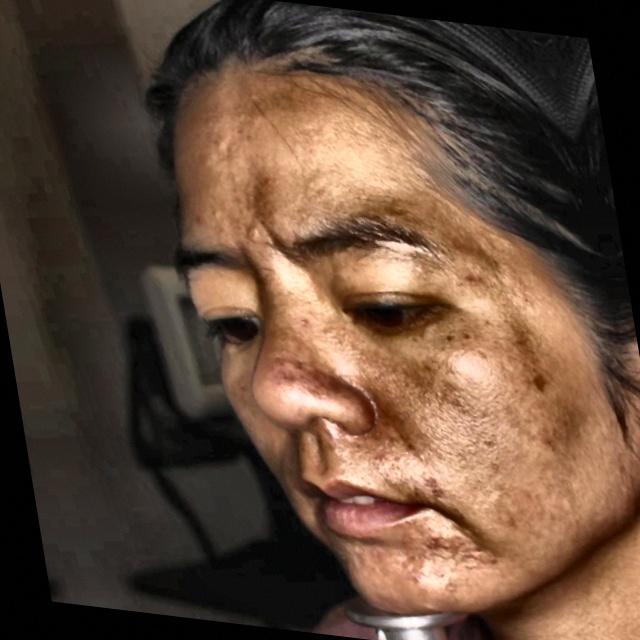comedone: (180, 200, 221, 242)
